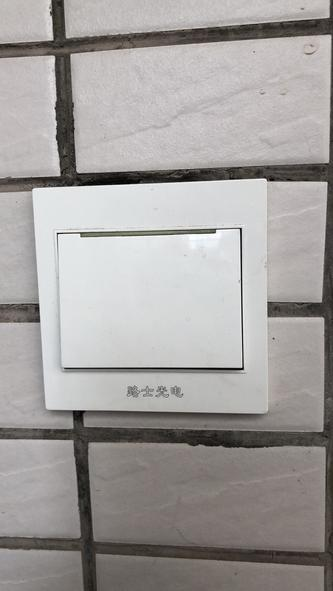switch: (54, 229, 252, 376)
